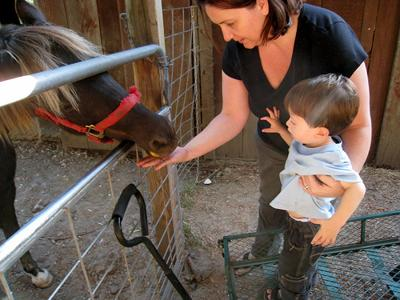person: (134, 1, 375, 282)
